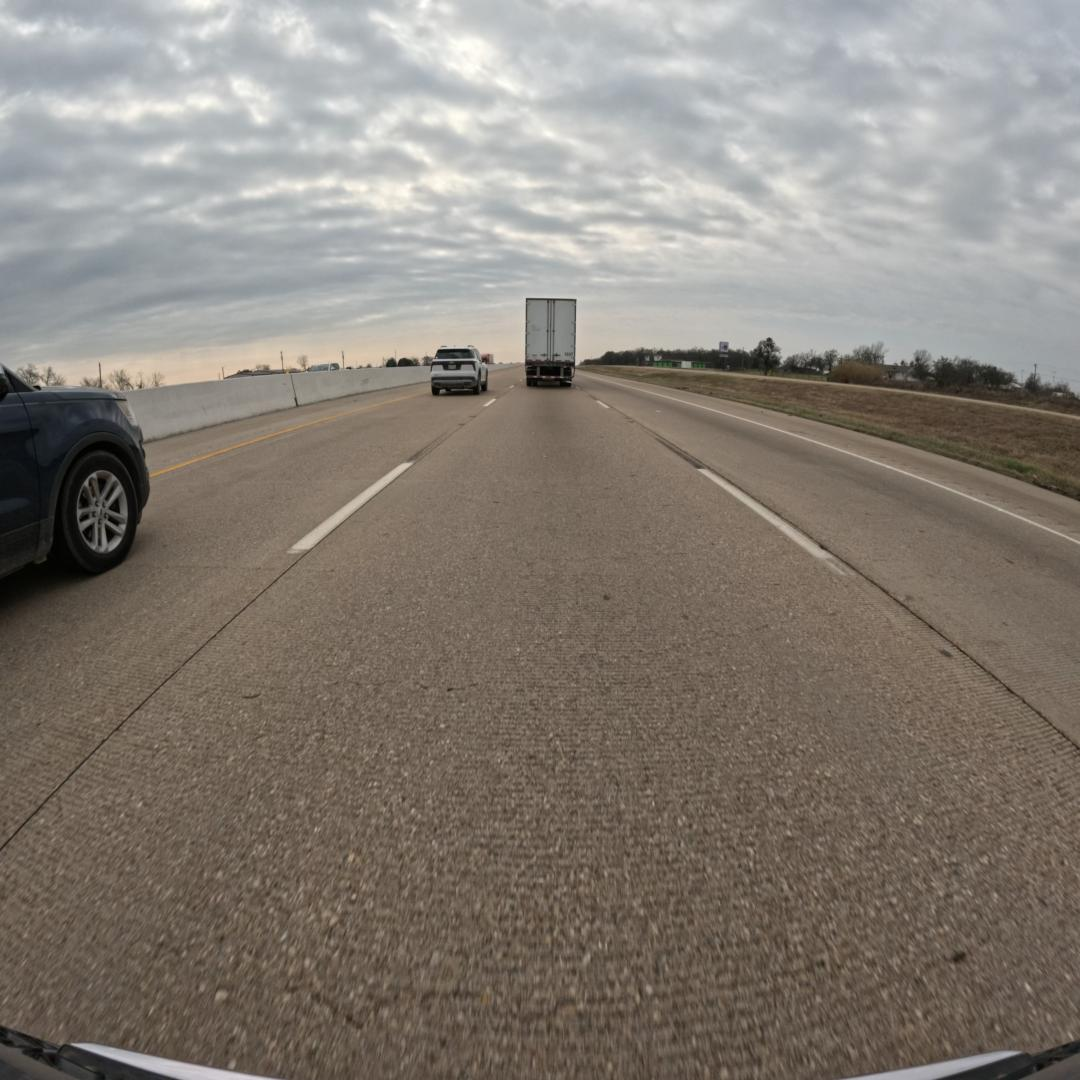lane0: (0, 387, 1080, 1077)
lane1: (0, 389, 503, 847)
